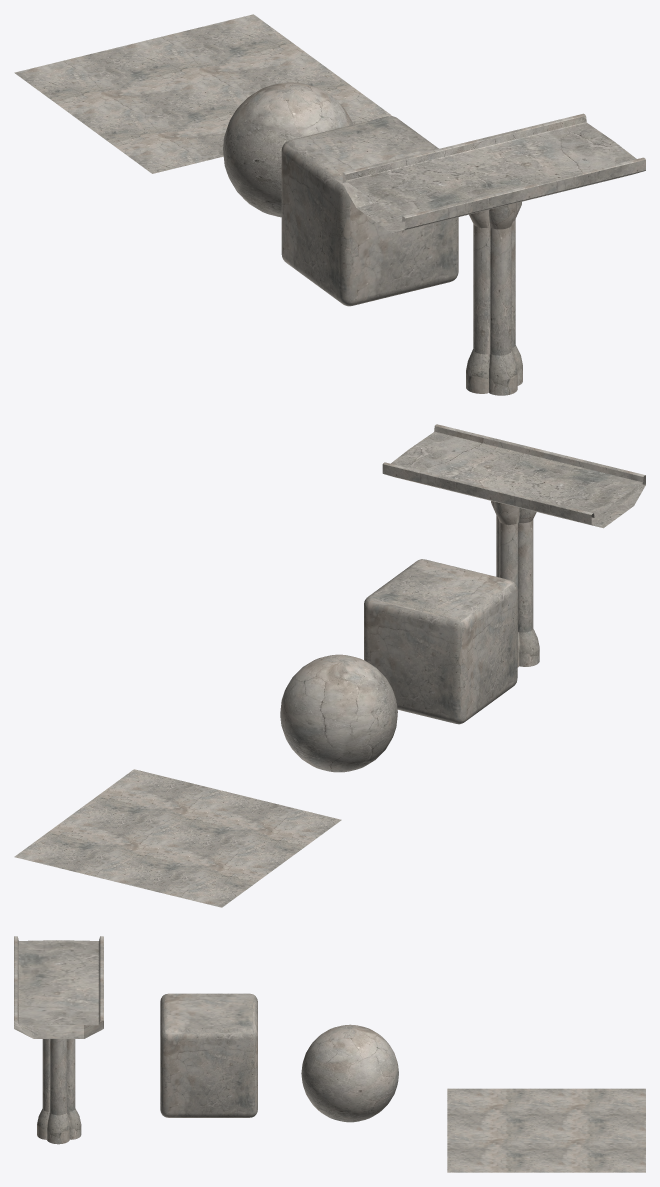
File: pbr_material_concrete_floor_2k.glb
The picture shows the model from 3 angles, top to bottom: view 1: azimuth 30°, elevation 25°; view 2: azimuth 150°, elevation 25°; view 3: azimuth 270°, elevation 25°; orthographic projection. The views are drawn at different scales.
Parts seen in each view (by area): view 1: object 4, object 3, pod, object 5, coloana_de_beton; view 2: object 4, object 3, pod, object 5, coloana_de_beton; view 3: object 4, object 3, pod, object 5, coloana_de_beton.
Part boxes in pixels (bbox=[...]): object 4: bbox=[14, 14, 391, 173]; object 3: bbox=[281, 116, 458, 306]; pod: bbox=[342, 113, 645, 233]; object 5: bbox=[223, 82, 353, 217]; coloana_de_beton: bbox=[466, 202, 522, 395]; object 4: bbox=[14, 769, 341, 907]; object 3: bbox=[364, 559, 517, 724]; pod: bbox=[382, 424, 645, 528]; object 5: bbox=[280, 654, 397, 772]; coloana_de_beton: bbox=[491, 501, 539, 667]; object 4: bbox=[447, 1088, 645, 1172]; object 3: bbox=[160, 993, 257, 1117]; pod: bbox=[14, 936, 103, 1038]; object 5: bbox=[301, 1024, 398, 1122]; coloana_de_beton: bbox=[37, 1039, 81, 1144].
Bounding box in the file's own units: 4.9 × 3.54 × 12.94.
1 material, 1 textured.
